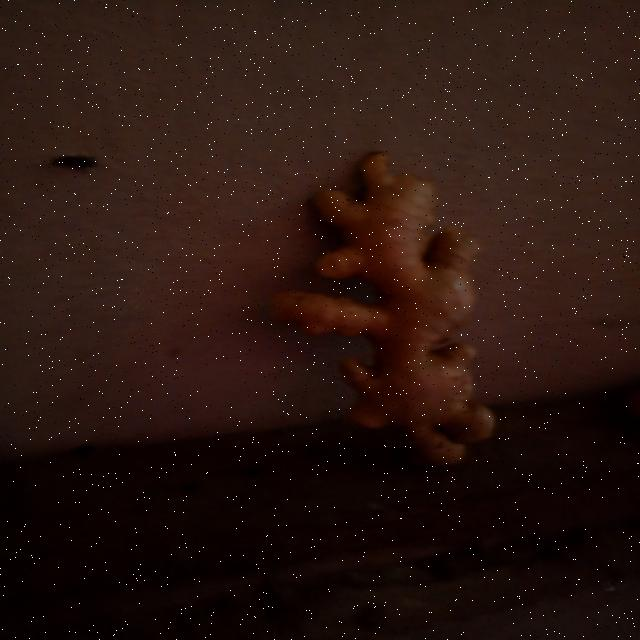ginger: (264, 142, 537, 480)
